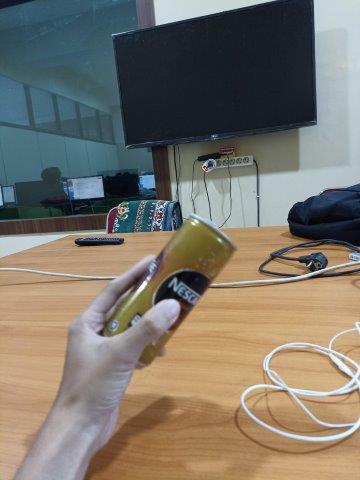kaleng: (103, 213, 238, 368)
